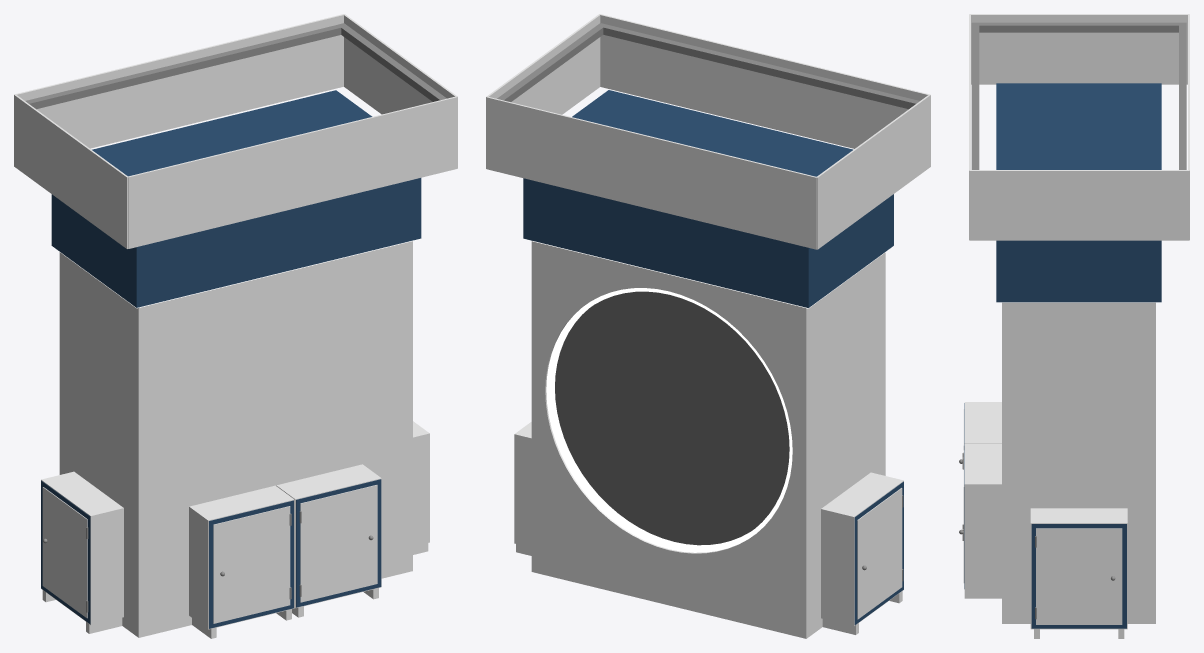
The model's file is mainBooth.glb.
3 renders of one model, left to right at view 1: azimuth 30°, elevation 25°; view 2: azimuth 150°, elevation 25°; view 3: azimuth 270°, elevation 25°, orthographic. The views are drawn at different scales.
Visible parts, largest first — view 1: Cube, top.1, corona1, corona1.1, corona1.2, Cube.11a, Cube.11, Cube.6b, Cube.11b, corona1.3, Cube.6, corona1.7 (+6 smaller); view 2: Cube, map, top.1, corona1.1, corona1, corona1.2, Cube.6b, Tube, Cube.11b, corona1.3, corona1.6, Cube.6c (+2 smaller); view 3: Cube, top.1, corona1.3, corona1.2, Cube.11c, Cube.6a, corona1.5, Cube.6c, Cube.2c, Cube.6, corona1.6, corona1.7 (+3 smaller).
Boxes of the visible parts, x1=… form: Cube: x1=59, y1=241, x2=412, y2=637; top.1: x1=51, y1=90, x2=421, y2=307; corona1: x1=128, y1=96, x2=457, y2=248; corona1.1: x1=15, y1=14, x2=343, y2=148; corona1.2: x1=14, y1=94, x2=128, y2=248; Cube.11a: x1=300, y1=485, x2=377, y2=602; Cube.11: x1=213, y1=506, x2=290, y2=623; Cube.6b: x1=41, y1=471, x2=123, y2=624; Cube.11b: x1=42, y1=487, x2=87, y2=618; corona1.3: x1=343, y1=14, x2=457, y2=168; Cube.6: x1=189, y1=485, x2=294, y2=629; corona1.7: x1=25, y1=23, x2=345, y2=109; Cube: x1=531, y1=241, x2=885, y2=638; map: x1=555, y1=291, x2=789, y2=545; top.1: x1=523, y1=90, x2=893, y2=307; corona1.1: x1=486, y1=97, x2=816, y2=249; corona1: x1=600, y1=14, x2=929, y2=148; corona1.2: x1=816, y1=94, x2=930, y2=249; Cube.6b: x1=821, y1=472, x2=903, y2=626; Tube: x1=546, y1=288, x2=792, y2=552; Cube.11b: x1=857, y1=488, x2=902, y2=619; corona1.3: x1=486, y1=14, x2=600, y2=168; corona1.6: x1=599, y1=23, x2=919, y2=109; Cube.6c: x1=514, y1=422, x2=531, y2=547; Cube: x1=1002, y1=302, x2=1155, y2=623; top.1: x1=996, y1=83, x2=1161, y2=302; corona1.3: x1=969, y1=170, x2=1189, y2=240; corona1.2: x1=969, y1=14, x2=1189, y2=84; Cube.11c: x1=1036, y1=528, x2=1122, y2=624; Cube.6a: x1=964, y1=443, x2=1001, y2=590; corona1.5: x1=972, y1=22, x2=1186, y2=32; Cube.6c: x1=1030, y1=508, x2=1127, y2=629; Cube.2c: x1=1031, y1=524, x2=1126, y2=628; Cube.6: x1=964, y1=402, x2=1001, y2=443; corona1.6: x1=971, y1=23, x2=979, y2=169; corona1.7: x1=1179, y1=23, x2=1186, y2=169.
Bounding box in the file's own units: 2.55 × 3.34 × 1.5.
